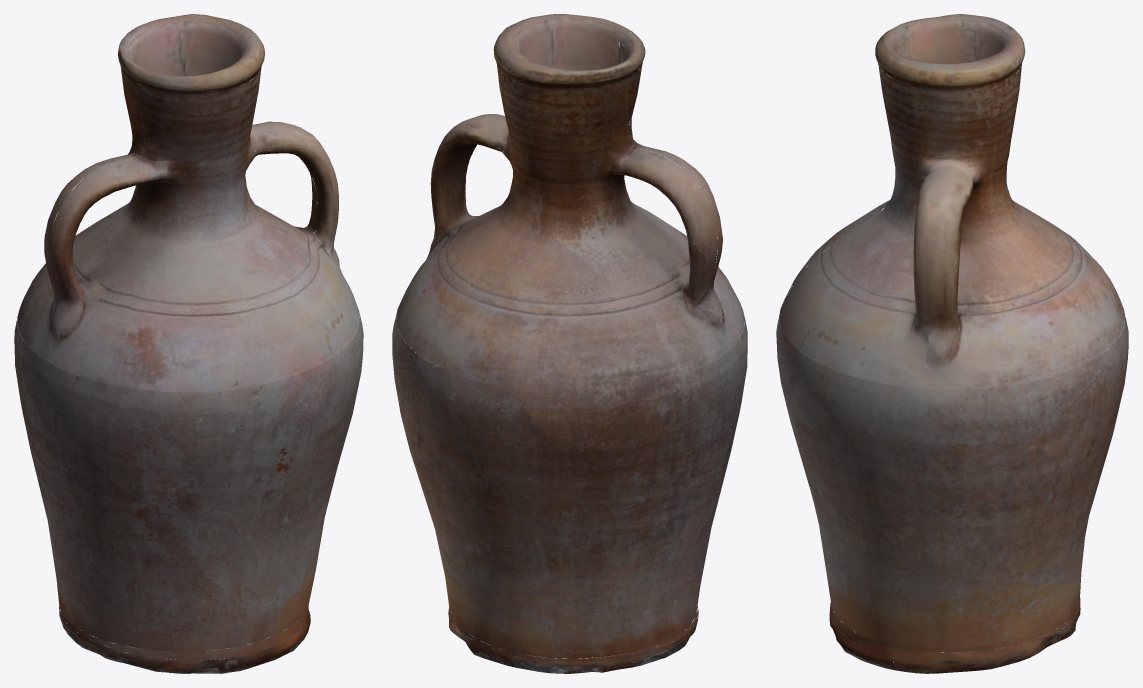
Rendered from amphora_terracotta.glb.
3 renders of one model, left to right at view 1: azimuth 30°, elevation 25°; view 2: azimuth 150°, elevation 25°; view 3: azimuth 270°, elevation 25°, orthographic.
Parts seen in each view (by area): view 1: Circle.001_0; view 2: Circle.001_0; view 3: Circle.001_0.
Part boxes in pixels (box(x1,y1,x2,y2)): Circle.001_0: box(14, 14, 363, 673); Circle.001_0: box(392, 14, 747, 673); Circle.001_0: box(776, 14, 1128, 673).
Bounding box in the file's own units: 0.5868 × 1.08 × 0.5809.
Materials: 1 (1 with a texture image).
